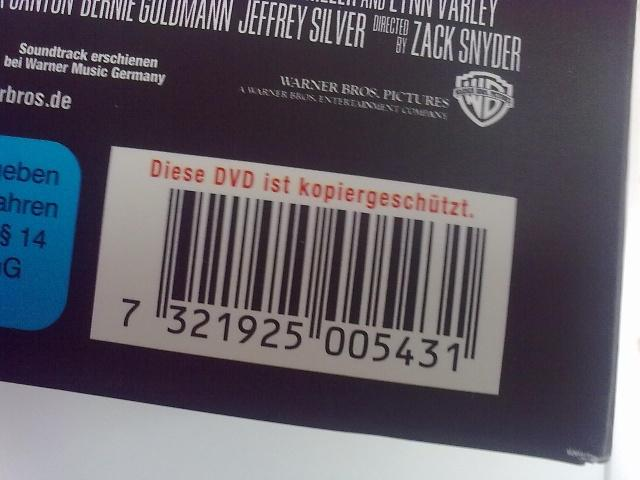Barcode: (116, 184, 494, 383)
